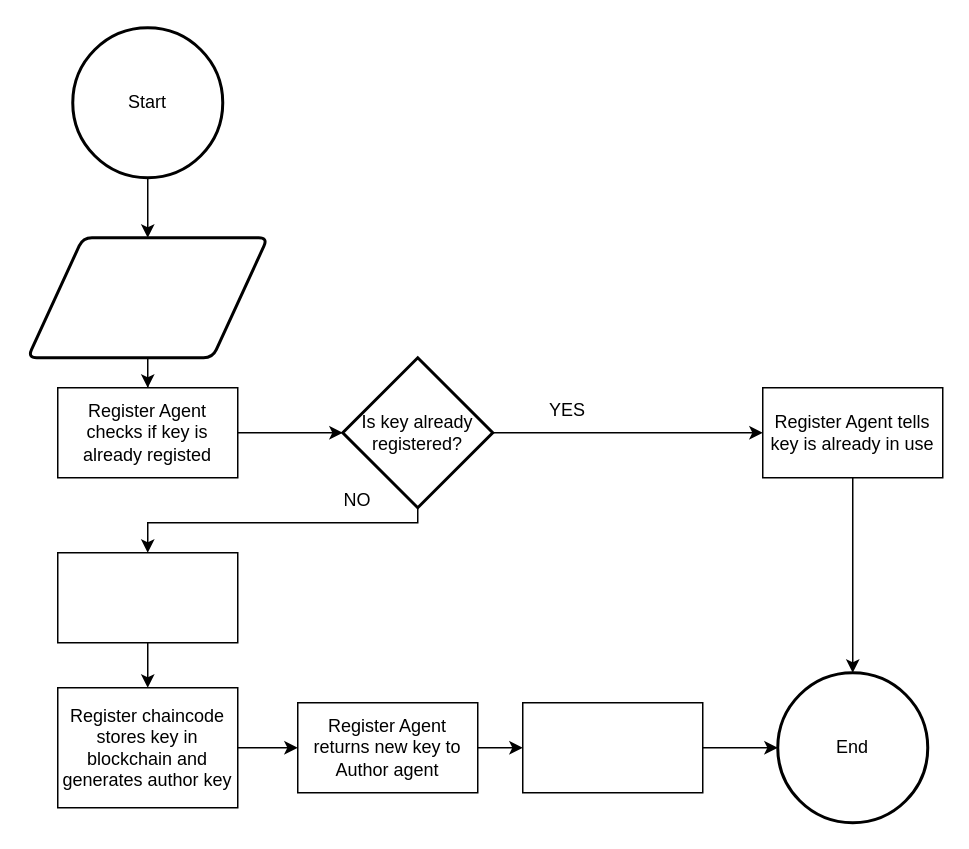
This 969x849 diagram has some shape labels left out. The box of each missing label's shape, as (x1, y1, x2, y2) in pixels:
Author agent stores key in key store: (521, 701, 703, 793)
Author asks to be registered by sending his public key used to verify manifests: (26, 236, 268, 358)
Register agent ask register chaincode to store key: (56, 551, 238, 643)
